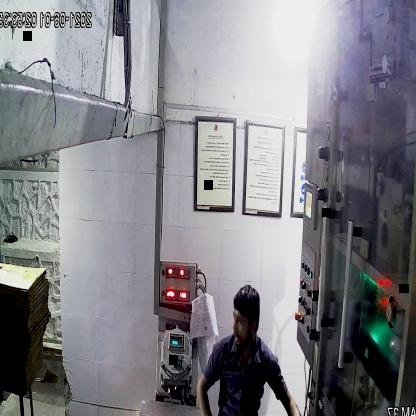no_goggles: (227, 310, 262, 334)
